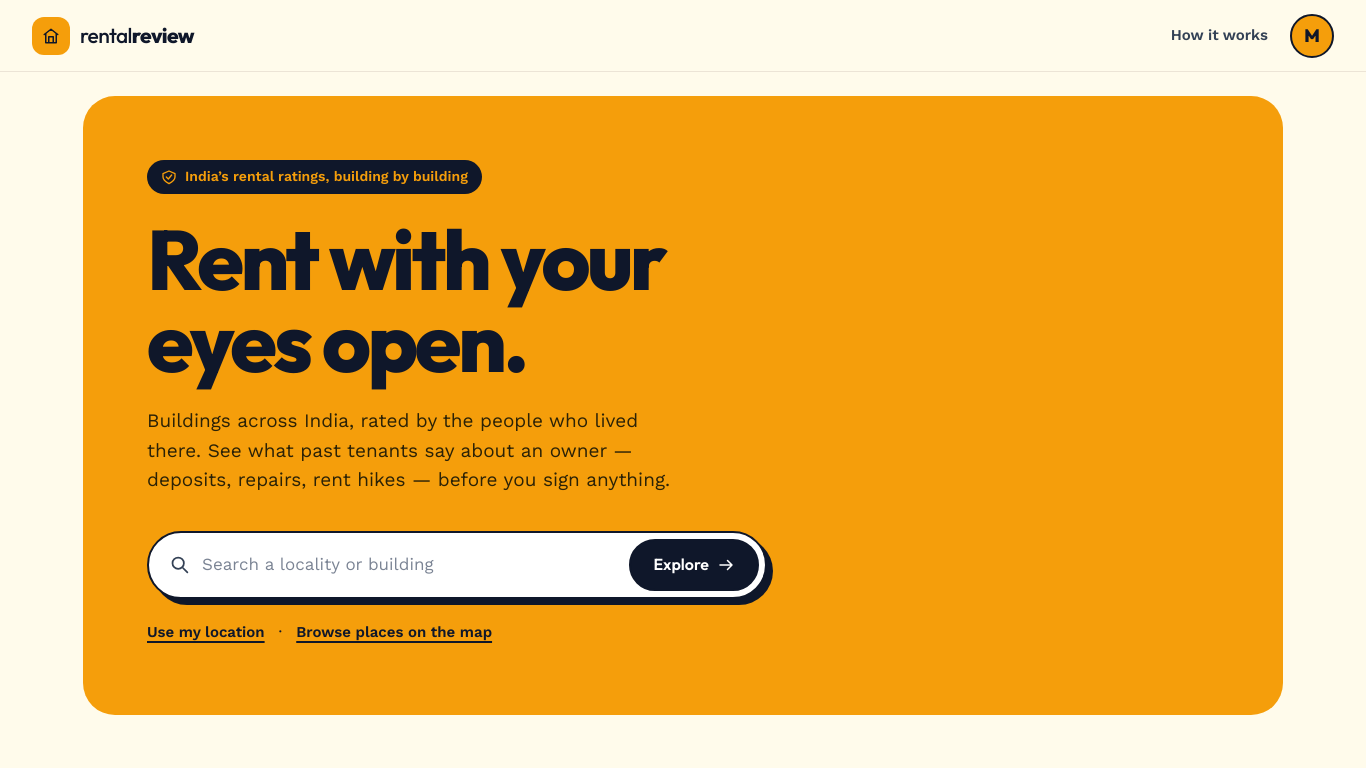
Test: Rental Review › offers Edit on the signed-in user's own reviews only
Click the button "Browse places on the map". click: (394,633)
box: [296, 615, 492, 651]
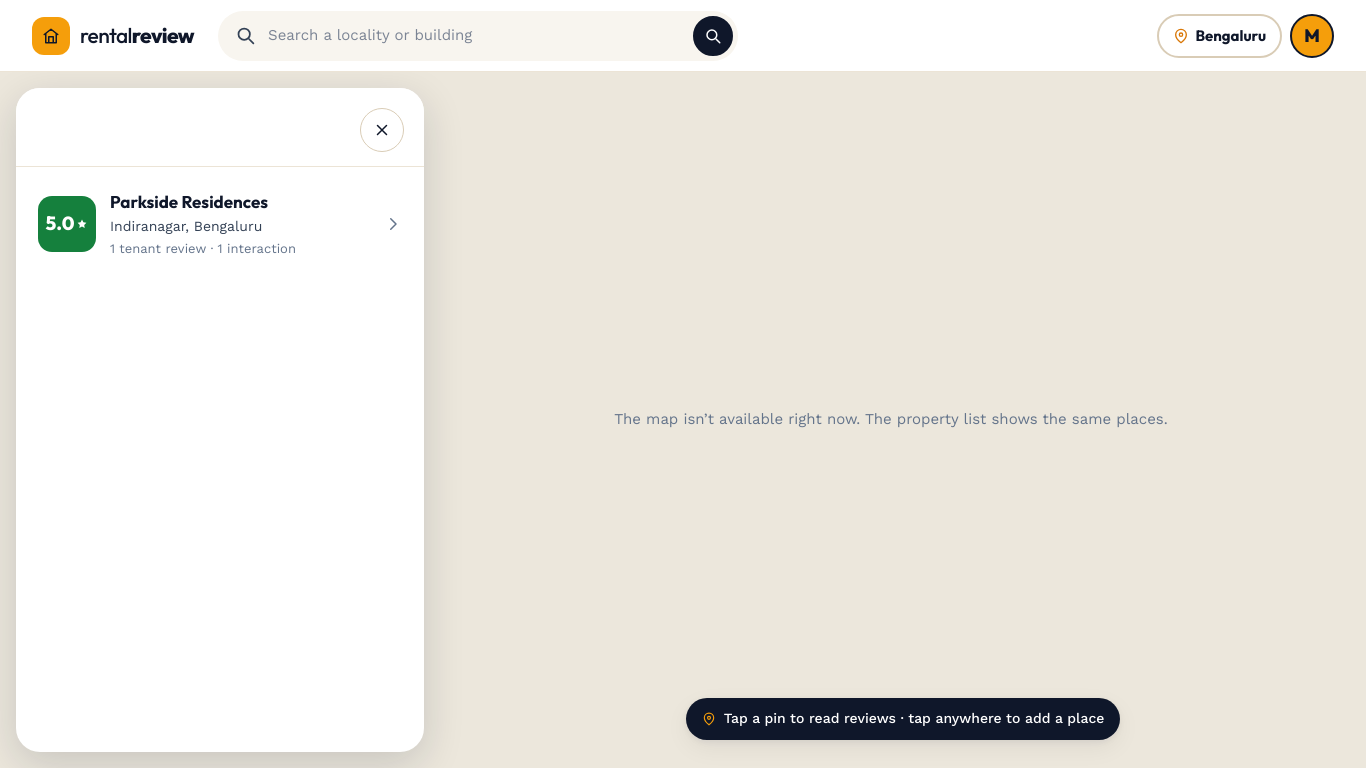
Click the button "Parkside Residences". click: (220,224)
box: [26, 177, 414, 271]
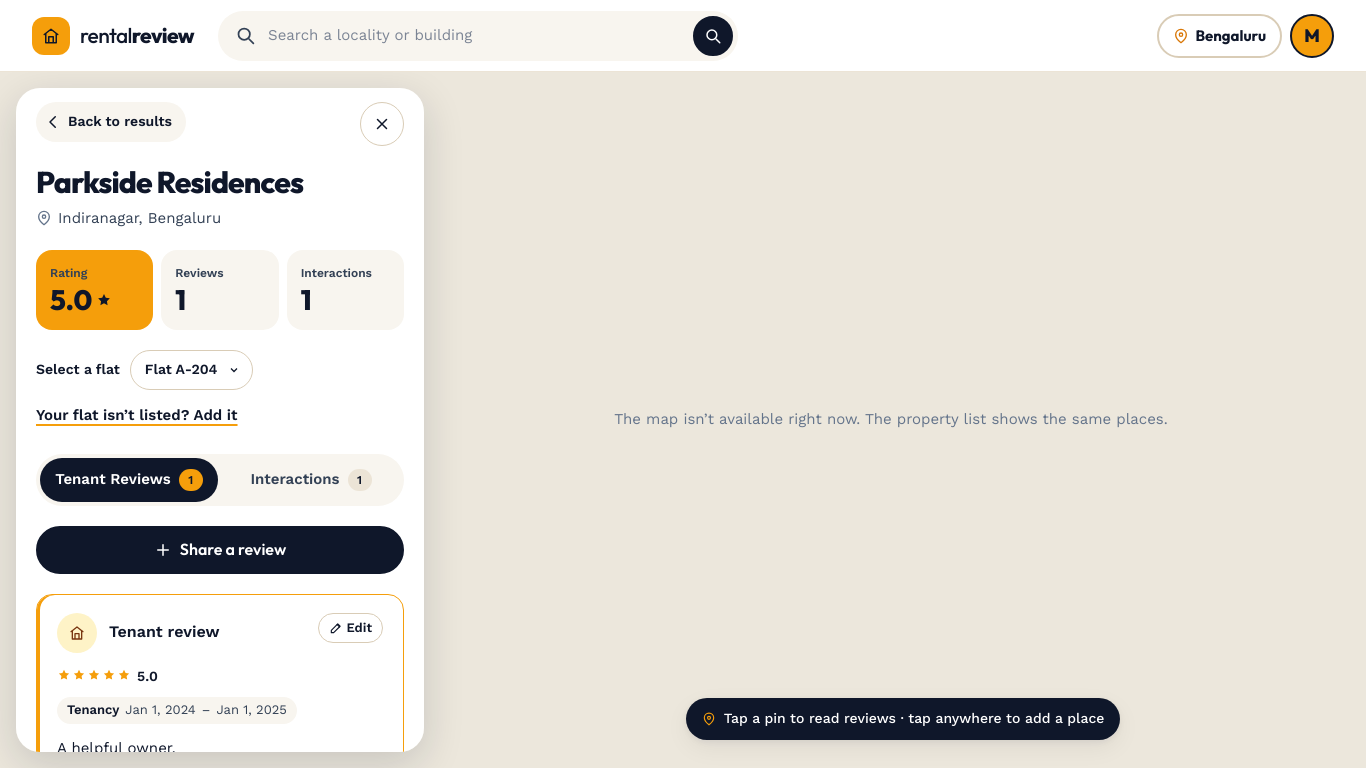
Click the button with aria-label "Edit your review". click: (350,628)
box: [318, 613, 383, 643]
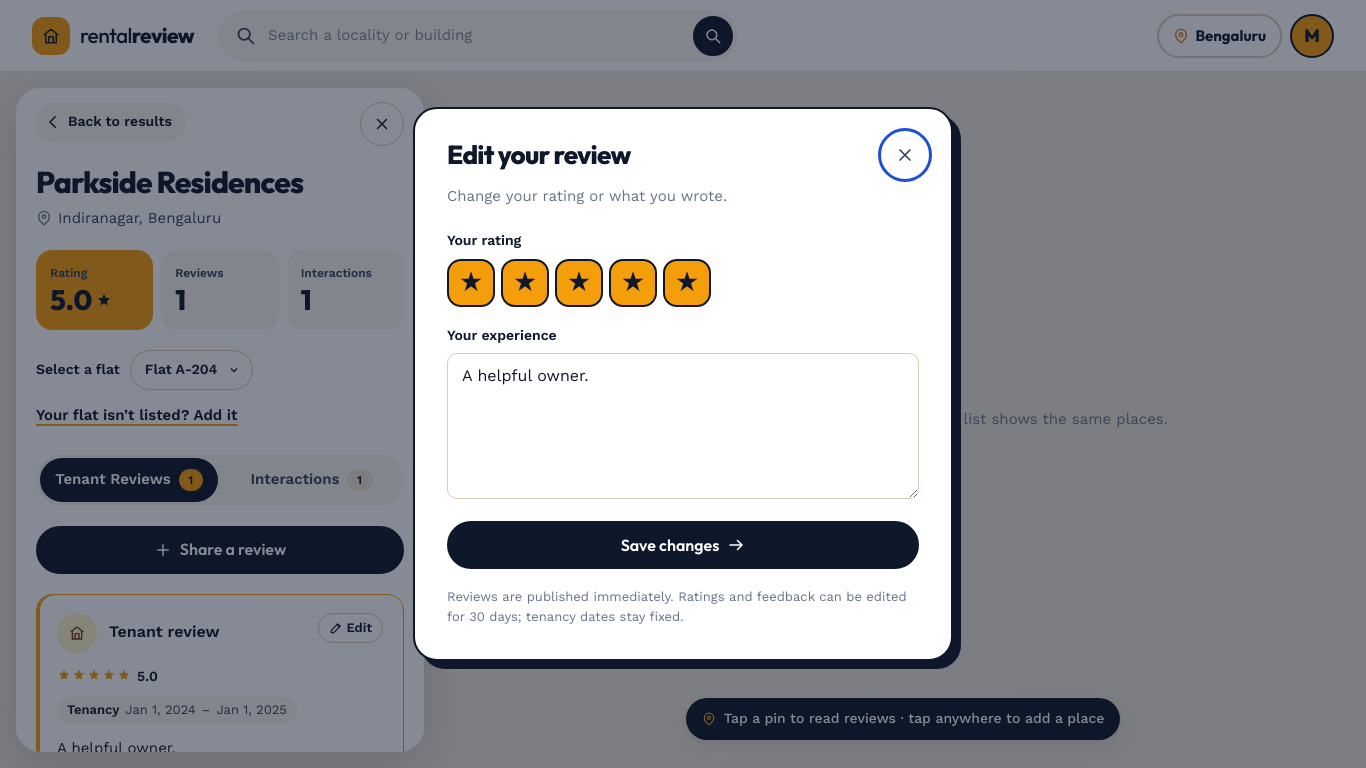
Now the heading "Edit your review" is shown, box [447, 140, 630, 169]
